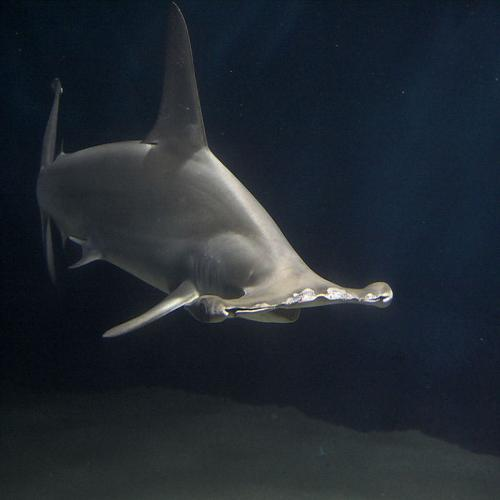shark-endangered: (36, 0, 392, 343)
